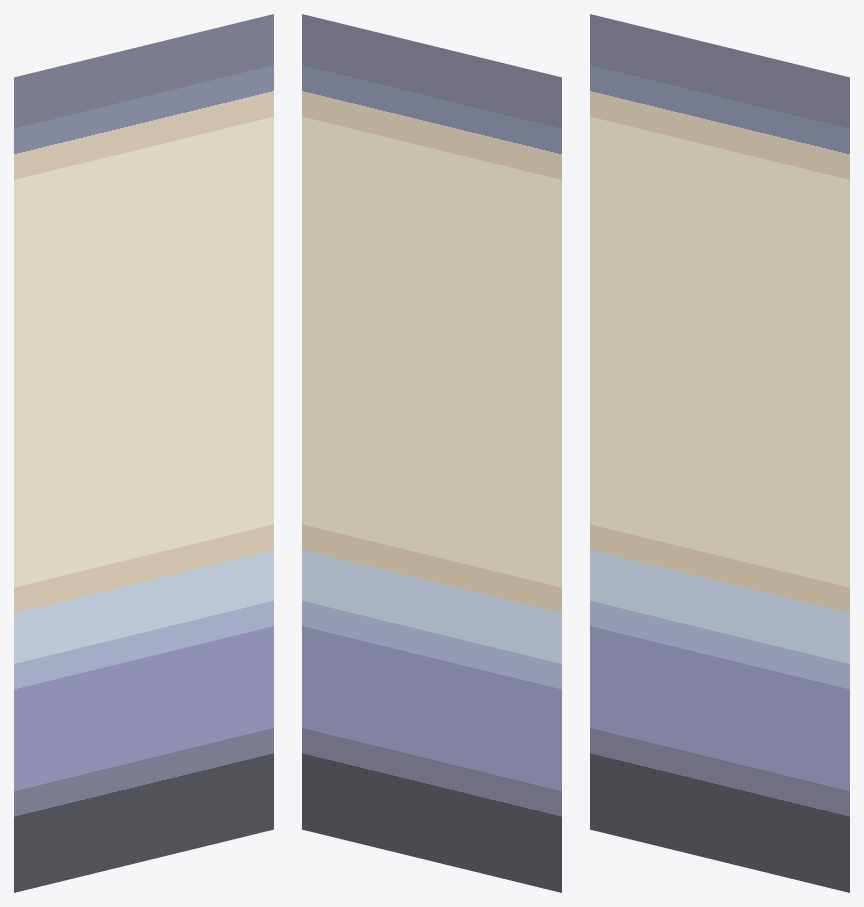
3 renders of one model, left to right at view 1: azimuth 30°, elevation 25°; view 2: azimuth 150°, elevation 25°; view 3: azimuth 330°, elevation 25°, orthographic.
Bounding box in the file's own units: 1 × 3 × 0.
1 material, 1 textured.
